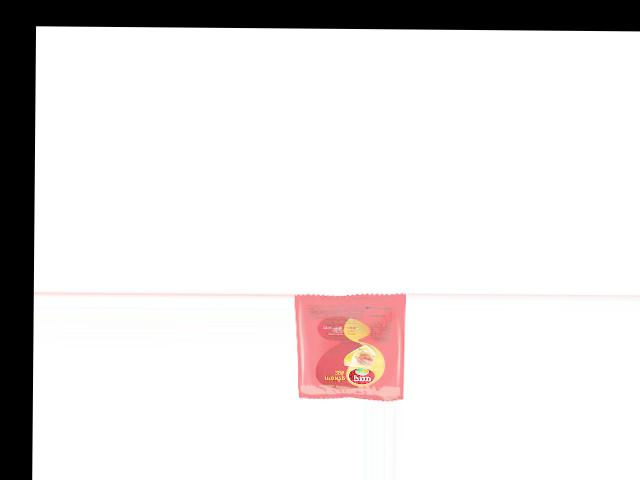cheese: (297, 292, 406, 399)
